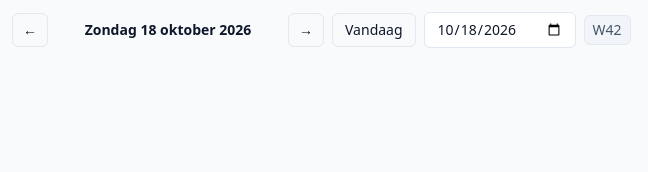
the week number in the period navigator › follows the next and the previous day across a week's end
Step 1. Click the button named "Volgende" → point(306, 30), box [288,13,324,47]
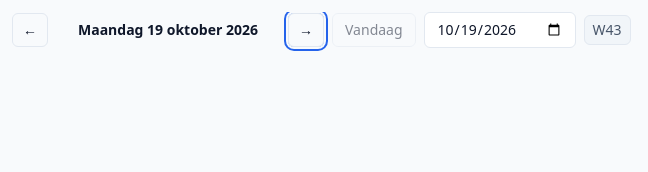
Now the text named "Weeknummer" reads "W43", box [584,15,631,45]
Step 2. Click the button named "Vorige" → point(30, 30), box [12,13,48,47]
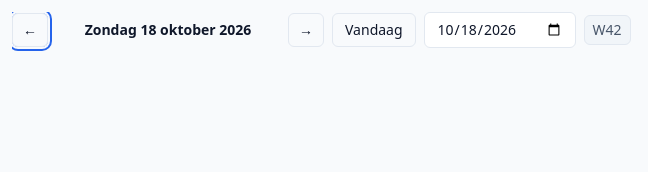
Now the text named "Weeknummer" reads "W42", box [584,15,631,45]
